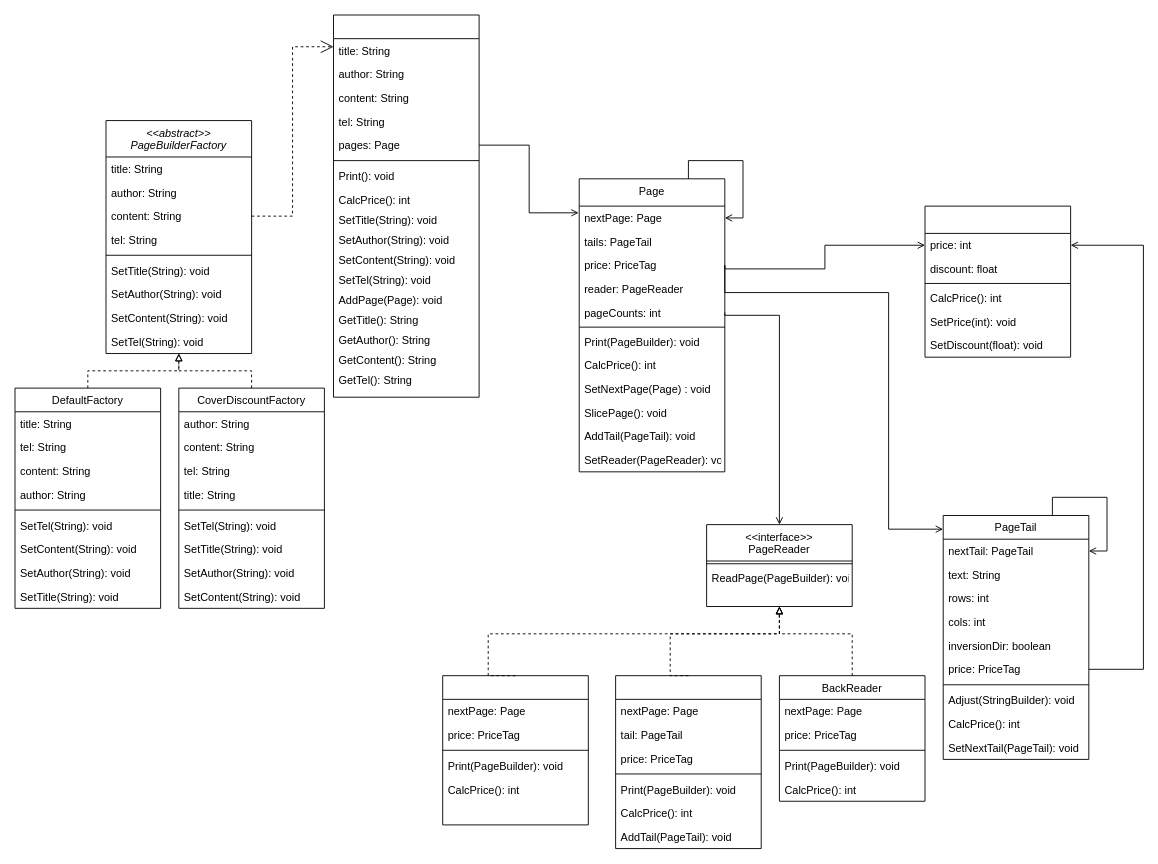
This 1158x864 diagram has some shape labels left out. The shapes that lost their labels are listed below. From the top down, each one's box as (x1, y1, x2, y2) in pixels, then its label:
(333, 14, 479, 397): PageBuilder
(924, 205, 1071, 357): PriceTag
(442, 675, 588, 825): FrontReader
(615, 675, 761, 849): ContentReader
